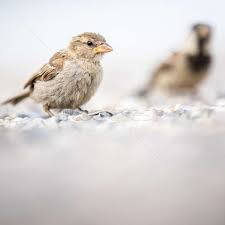home_sparrow: (3, 26, 118, 124), (132, 20, 216, 105)
